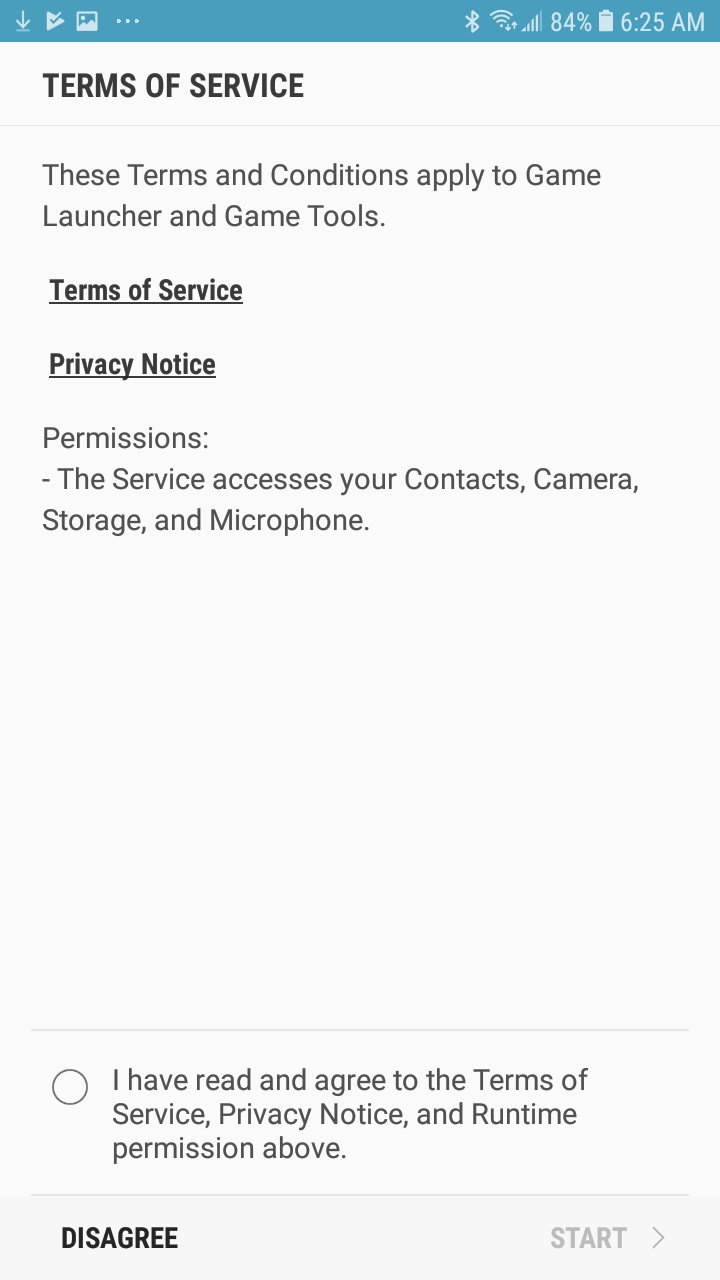CheckedTextView: (52, 1068, 589, 1166)
Icon: (652, 1226, 665, 1249)
Text: (113, 1068, 589, 1165), (42, 467, 638, 537), (43, 163, 601, 228), (43, 73, 304, 99), (49, 279, 244, 305), (49, 352, 217, 381), (44, 427, 209, 450), (63, 1226, 179, 1249), (551, 1226, 628, 1249)
UpperTaskBar: (1, 1, 720, 43)
